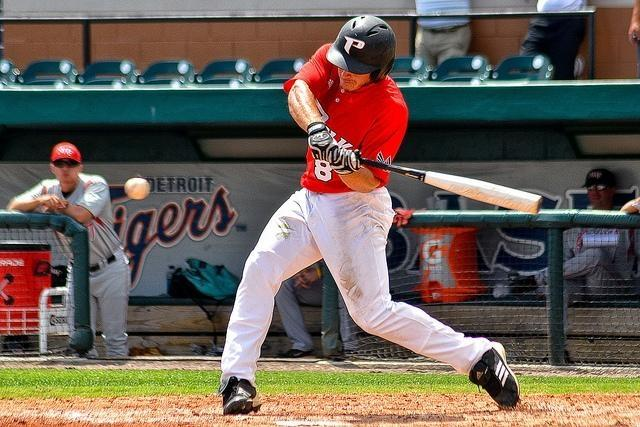car: (488, 54, 560, 84), (136, 60, 194, 88)
